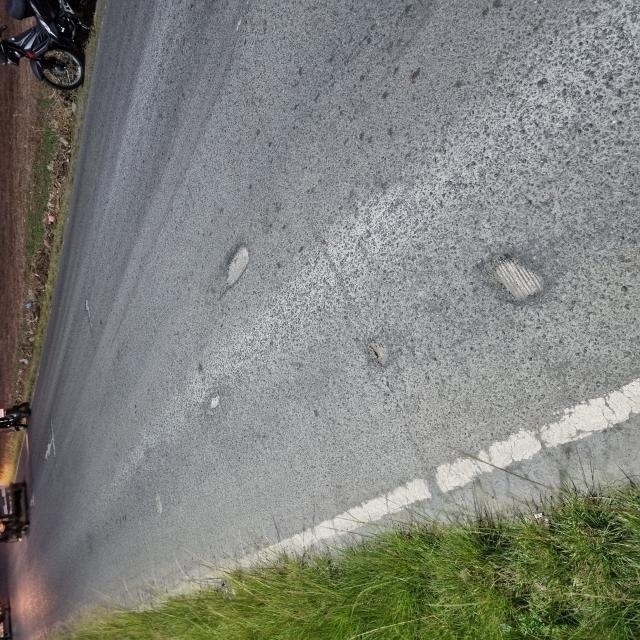pothole: (466, 232, 570, 316), (193, 232, 272, 290)
